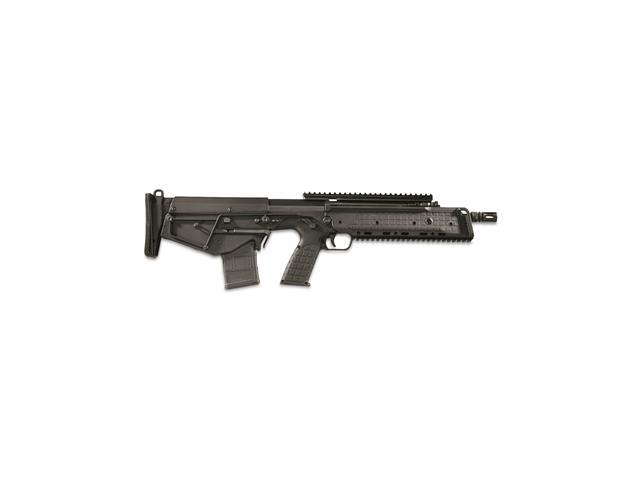rifle: (140, 191, 507, 293)
